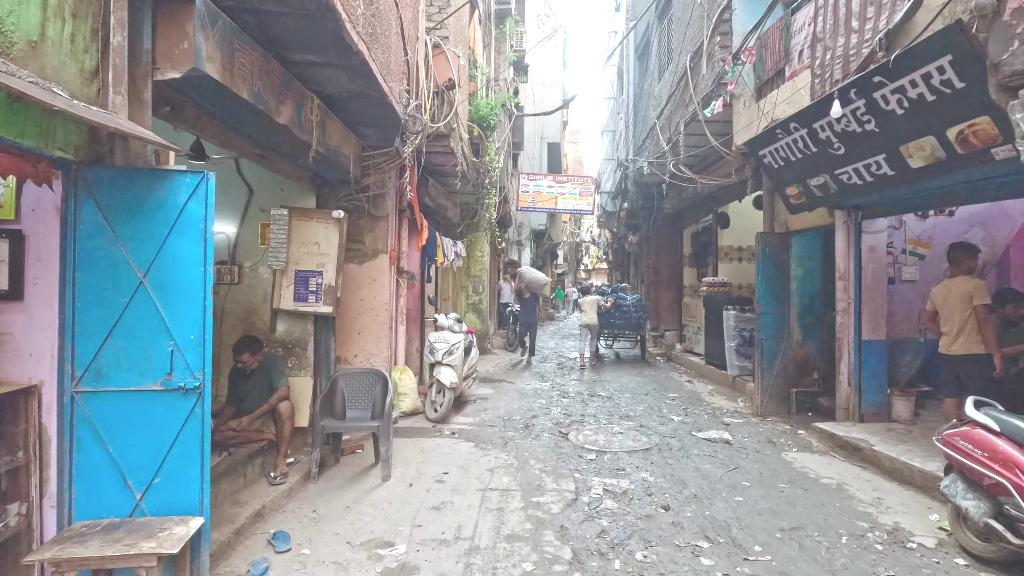garbage: (691, 429, 735, 446), (593, 477, 631, 493), (590, 482, 604, 497)
